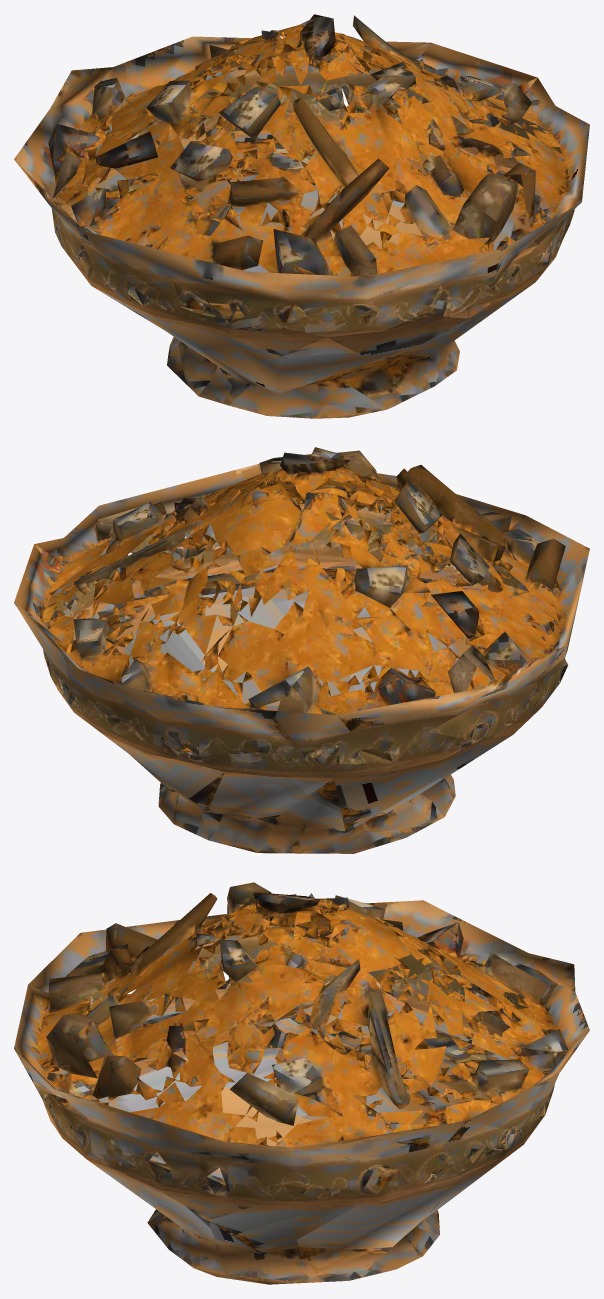
Rendered from goldenVial.glb.
The picture shows the model from 3 angles, top to bottom: view 1: azimuth 30°, elevation 25°; view 2: azimuth 150°, elevation 25°; view 3: azimuth 270°, elevation 25°; orthographic projection.
Visible parts, largest first — view 1: geometry_0; view 2: geometry_0; view 3: geometry_0.
Part boxes in pixels (<box>): geometry_0: <box>14,14,589,418</box>; geometry_0: <box>14,447,589,853</box>; geometry_0: <box>14,882,589,1284</box>.
Size of the model in its own units: 0.9205 by 0.6055 by 0.9357.
1 material, 1 textured.
